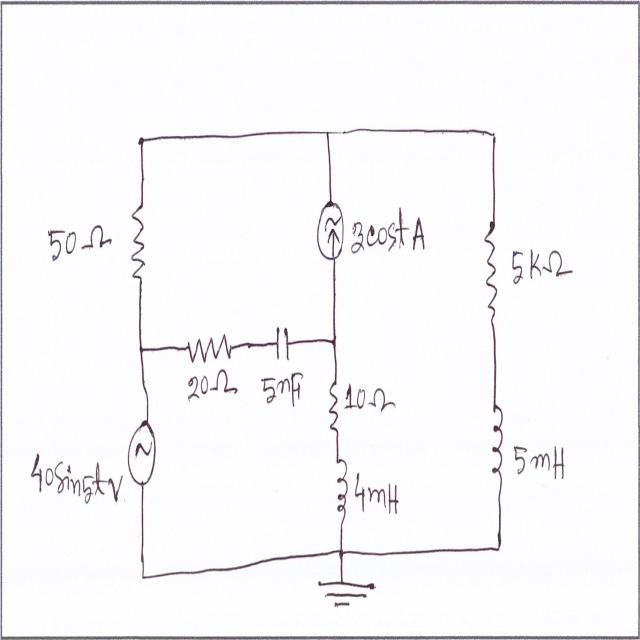ac_current: (127, 414, 162, 497)
capacitor: (274, 315, 293, 370)
current_source: (315, 188, 347, 274)
ground: (318, 568, 377, 613)
inductor: (489, 389, 509, 492), (333, 451, 349, 530)
resistor: (481, 212, 498, 336), (180, 332, 240, 362), (130, 196, 146, 291), (327, 372, 342, 446)
